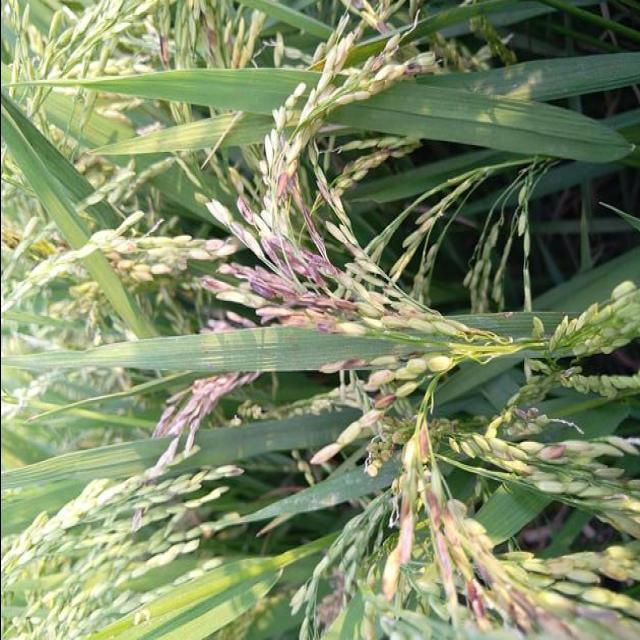Panicle Blight: (216, 237, 356, 332), (493, 571, 616, 640), (152, 374, 257, 451), (310, 395, 396, 464), (425, 489, 472, 597), (276, 169, 327, 260), (380, 488, 414, 604), (358, 287, 441, 329), (195, 12, 240, 68), (361, 28, 412, 69), (102, 251, 154, 289), (518, 442, 601, 464), (508, 405, 559, 439), (575, 492, 640, 514), (470, 542, 502, 586), (348, 0, 389, 33), (198, 277, 250, 301), (462, 575, 486, 624), (236, 184, 262, 228), (368, 431, 400, 462), (318, 357, 368, 374), (157, 33, 176, 71), (131, 508, 165, 529), (360, 602, 376, 640), (417, 420, 430, 464), (404, 52, 435, 65)
